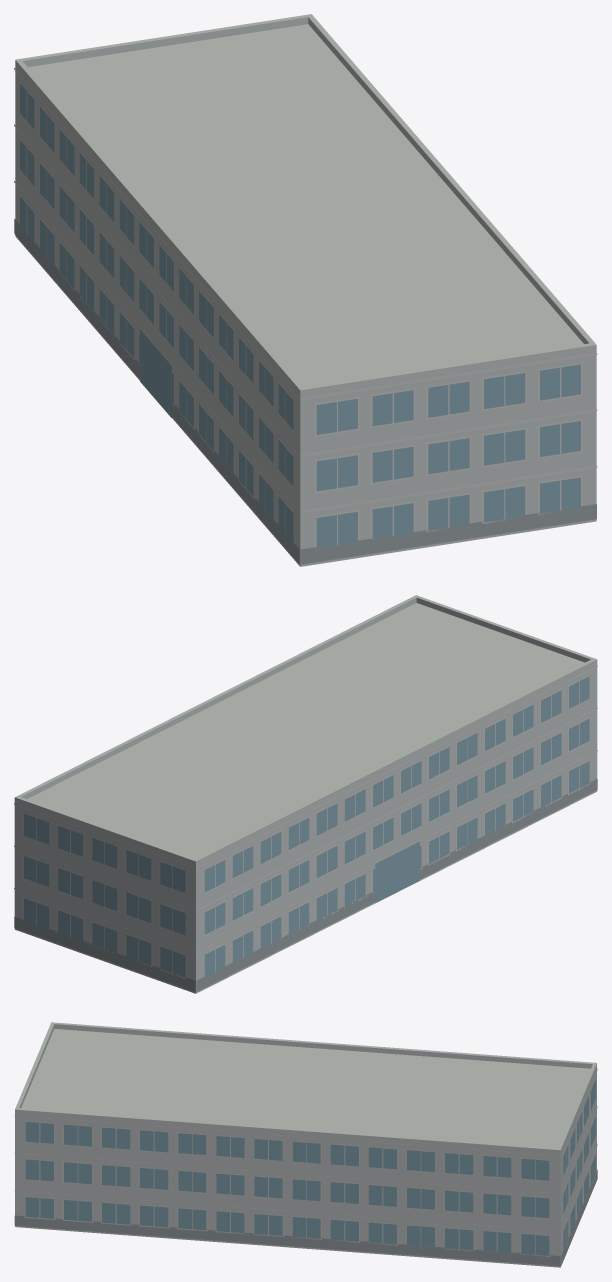
File: civic-d62ee743-331d-4be4-9136-1b2212089a5d.glb
The picture shows the model from 3 angles, top to bottom: view 1: azimuth 30°, elevation 25°; view 2: azimuth 150°, elevation 25°; view 3: azimuth 270°, elevation 25°; orthographic projection. The views are drawn at different scales.
Parts seen in each view (by area): view 1: civic-d62ee743-331d-4be4-9136-1b2212089a5d; view 2: civic-d62ee743-331d-4be4-9136-1b2212089a5d; view 3: civic-d62ee743-331d-4be4-9136-1b2212089a5d.
Boxes of the visible parts, x1,y1,x2,y2 form: civic-d62ee743-331d-4be4-9136-1b2212089a5d: (14,14,597,566); civic-d62ee743-331d-4be4-9136-1b2212089a5d: (14,595,597,993); civic-d62ee743-331d-4be4-9136-1b2212089a5d: (14,1022,597,1267).
Size of the model in its own units: 24.54 by 10.45 by 47.07.
